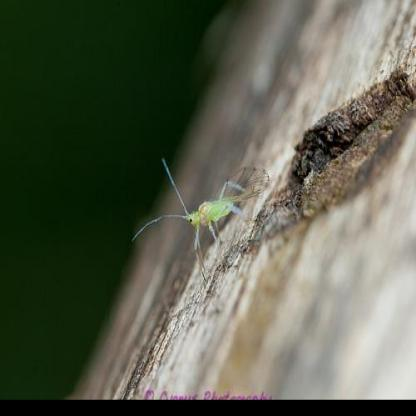aphid: (142, 152, 276, 273)
